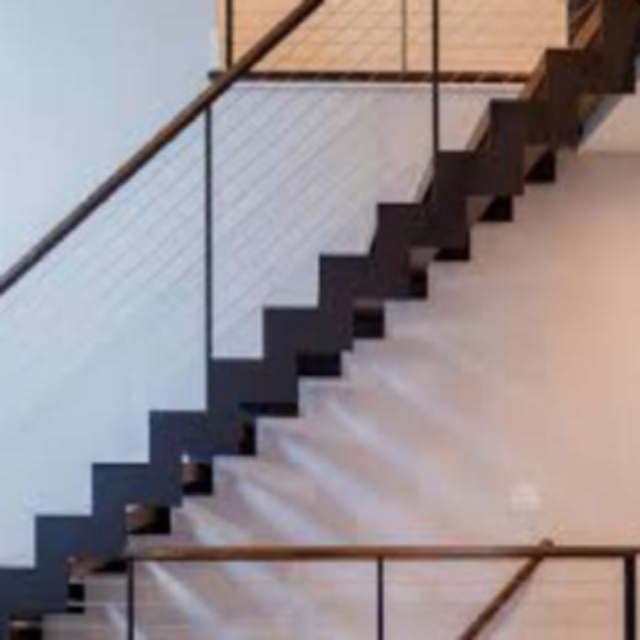stair: (2, 0, 639, 638)
